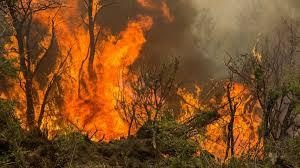fire: (1, 2, 161, 145), (176, 78, 266, 158)
